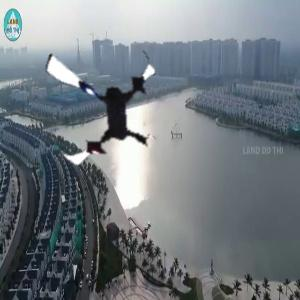drone: (31, 34, 173, 176)
